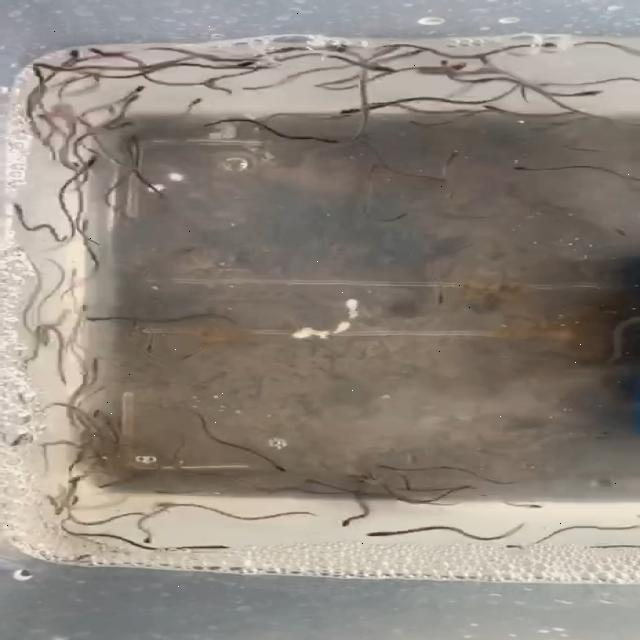inactive_glass_eel: (81, 313, 135, 329), (32, 322, 56, 352), (120, 88, 152, 110), (260, 454, 292, 476), (446, 60, 480, 80), (470, 102, 520, 114), (36, 330, 56, 360), (530, 41, 572, 55), (79, 153, 105, 175), (0, 196, 28, 216), (61, 471, 92, 489), (54, 48, 96, 61), (326, 40, 364, 54), (302, 134, 346, 146), (140, 526, 164, 548), (86, 406, 112, 426), (152, 498, 188, 512), (124, 82, 154, 98), (338, 105, 371, 119), (581, 86, 609, 102), (194, 544, 236, 554), (139, 488, 181, 498), (508, 540, 538, 554), (72, 218, 96, 235), (359, 531, 399, 541), (84, 356, 114, 369), (87, 476, 117, 489), (184, 94, 204, 112), (139, 341, 159, 358), (432, 60, 458, 73), (360, 462, 402, 470), (304, 473, 326, 488), (438, 146, 456, 163), (236, 56, 266, 66), (24, 334, 60, 342), (519, 500, 543, 512), (342, 514, 359, 530), (85, 48, 118, 56), (506, 164, 536, 170)
